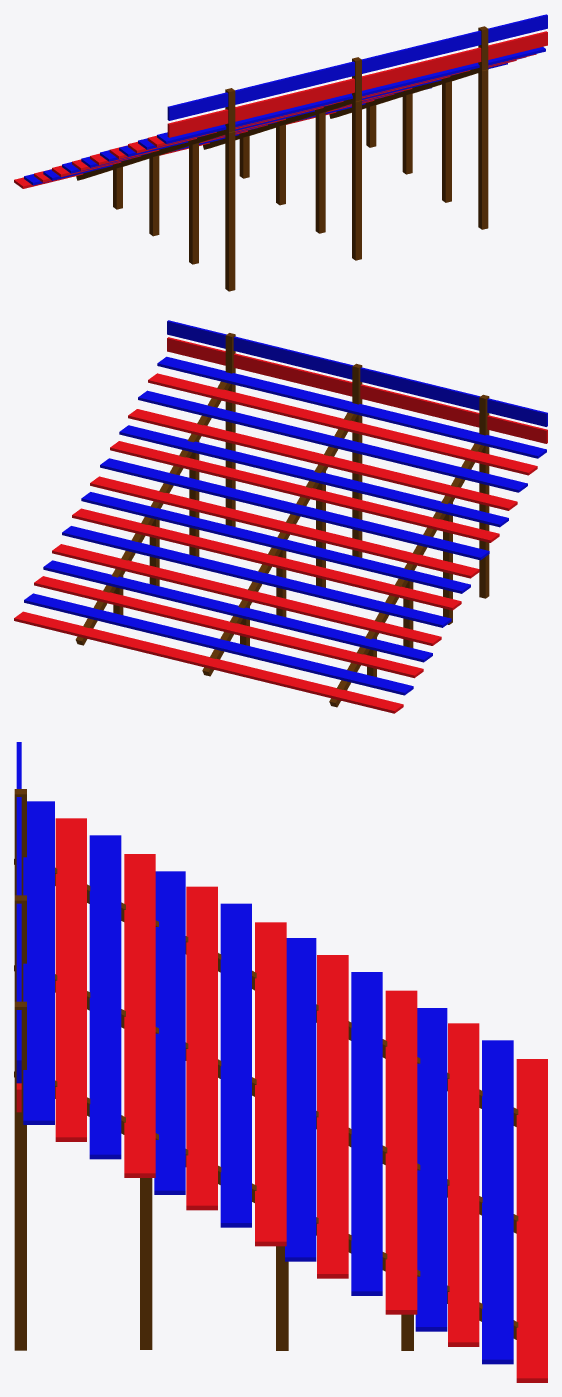
File: tribunas.fbx
3 renders of one model, top to bottom at view 1: azimuth 30°, elevation 25°; view 2: azimuth 150°, elevation 25°; view 3: azimuth 270°, elevation 25°, orthographic. The views are drawn at different scales.
Parts seen in each view (by area): view 1: Postes, TablonesAzules, RojoArriba, TablonesRojos, Vigas; view 2: TablonesAzules, TablonesRojos, Postes, RojoArriba, Vigas; view 3: TablonesAzules, TablonesRojos, Postes, Vigas.
Boxes of the visible parts, <box> form: Postes: <box>113,26,488,291</box>; TablonesAzules: <box>24,14,547,185</box>; RojoArriba: <box>167,31,547,137</box>; TablonesRojos: <box>14,54,536,188</box>; Vigas: <box>76,68,488,180</box>; TablonesAzules: <box>24,320,547,695</box>; TablonesRojos: <box>14,373,537,713</box>; Postes: <box>113,333,489,676</box>; RojoArriba: <box>167,337,547,443</box>; Vigas: <box>75,381,488,707</box>; TablonesAzules: <box>16,742,513,1364</box>; TablonesRojos: <box>55,818,547,1382</box>; Postes: <box>14,789,413,1350</box>; Vigas: <box>14,856,518,1339</box>.
Size of the model in its own units: 5997 by 3013 by 4239.
3 materials, 3 textured.
